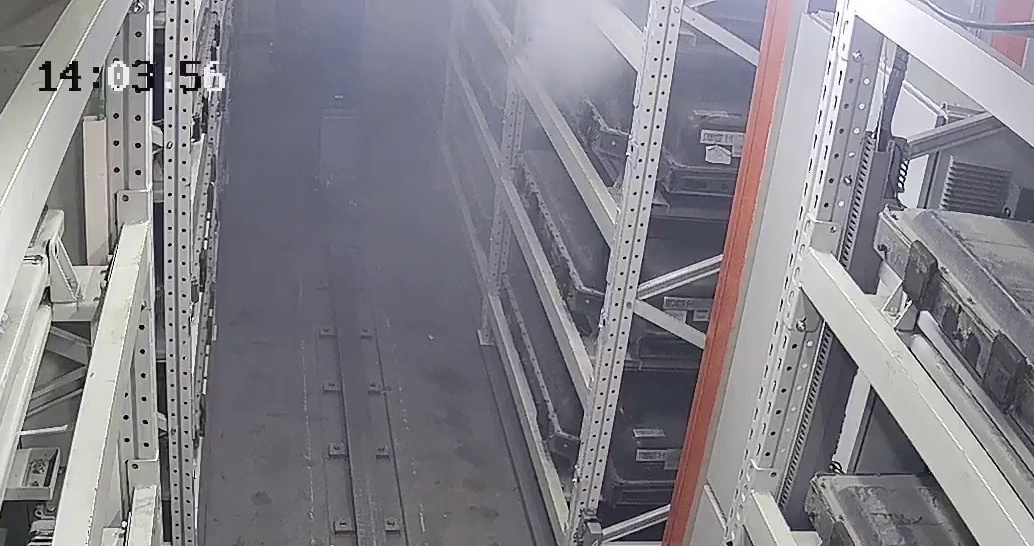smoke: (506, 13, 634, 107)
